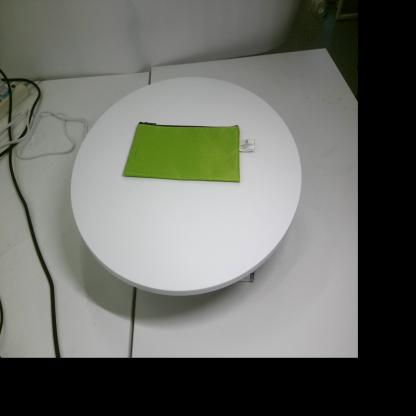Stationery: (123, 122, 255, 182)
